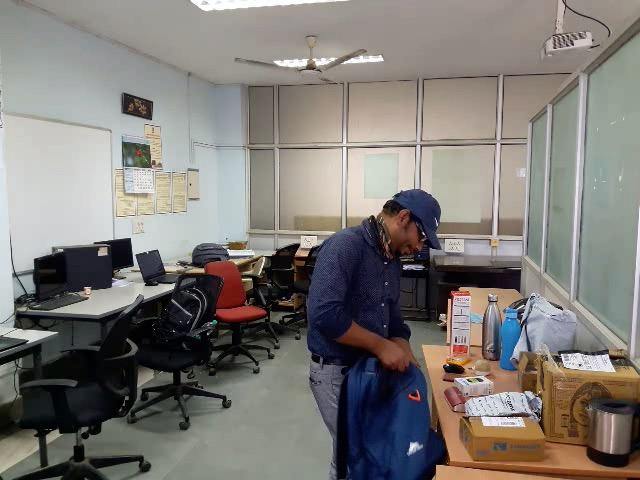shoplifting: (286, 270, 501, 480)
